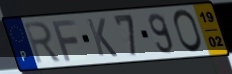7: (111, 13, 139, 58)
9: (148, 12, 175, 55)
F: (50, 19, 79, 63)
K: (85, 17, 120, 58)
O: (172, 8, 204, 54)
R: (22, 20, 63, 66)
